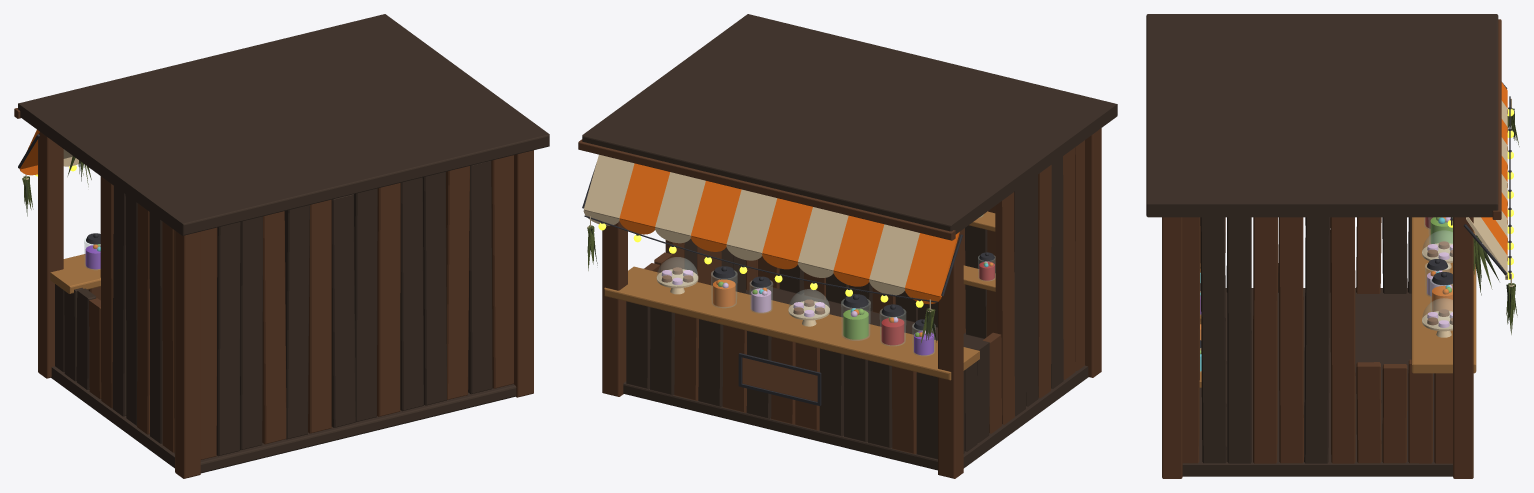
Rendered from BAYOU_SHOP_STALL.glb.
3 renders of one model, left to right at view 1: azimuth 30°, elevation 25°; view 2: azimuth 150°, elevation 25°; view 3: azimuth 270°, elevation 25°, orthographic. The views are drawn at different scales.
Parts seen in each view (by area): view 1: Roof, WoodB, WoodA, Post (×3), Floor, Counter_Top; view 2: Roof, WoodB, WoodA, Awning_Stripe (×10), Post (×3), Counter_Top, Floor, Roof_Trim, Jar_Glass (×4), Counter_Sign, CakeStand_Dome (×2), Jar_Candy (×2) (+1 smaller); view 3: Roof, WoodA, WoodB, Post (×2), Floor, Counter_Top, CakeStand_Dome (×2), Awning_Stripe (×2), Jar_Glass (×2), Jar_Candy (×2), Roof_Trim, Herb_Leaves.
Boxes of the visible parts, x1=… form: Roof: x1=18, y1=14, x2=549, y2=235; WoodB: x1=55, y1=161, x2=492, y2=456; WoodA: x1=89, y1=155, x2=513, y2=459; Post (×3): x1=38, y1=136, x2=533, y2=478; Floor: x1=51, y1=366, x2=516, y2=473; Counter_Top: x1=50, y1=254, x2=100, y2=293; Roof: x1=582, y1=14, x2=1117, y2=234; WoodB: x1=626, y1=156, x2=1063, y2=459; WoodA: x1=643, y1=140, x2=1084, y2=454; Awning_Stripe (×10): x1=584, y1=154, x2=959, y2=297; Post (×3): x1=602, y1=128, x2=1101, y2=478; Counter_Top: x1=604, y1=266, x2=979, y2=380; Floor: x1=623, y1=286, x2=1088, y2=470; Roof_Trim: x1=578, y1=139, x2=955, y2=240; Jar_Glass (×4): x1=711, y1=271, x2=905, y2=345; Counter_Sign: x1=742, y1=357, x2=817, y2=401; CakeStand_Dome (×2): x1=657, y1=257, x2=829, y2=318; Jar_Candy (×2): x1=843, y1=309, x2=904, y2=345; Roof: x1=1146, y1=14, x2=1498, y2=217; WoodA: x1=1182, y1=217, x2=1452, y2=463; WoodB: x1=1200, y1=217, x2=1411, y2=463; Post (×2): x1=1162, y1=217, x2=1473, y2=478; Floor: x1=1182, y1=288, x2=1452, y2=476; Counter_Top: x1=1411, y1=217, x2=1476, y2=373; CakeStand_Dome (×2): x1=1422, y1=230, x2=1452, y2=328; Awning_Stripe (×2): x1=1466, y1=217, x2=1507, y2=275; Jar_Glass (×2): x1=1428, y1=217, x2=1452, y2=311; Jar_Candy (×2): x1=1430, y1=217, x2=1452, y2=311; Roof_Trim: x1=1492, y1=19, x2=1501, y2=219; Herb_Leaves: x1=1473, y1=237, x2=1492, y2=291.
Size of the model in its own units: 17.6 by 11.9 by 14.42.
